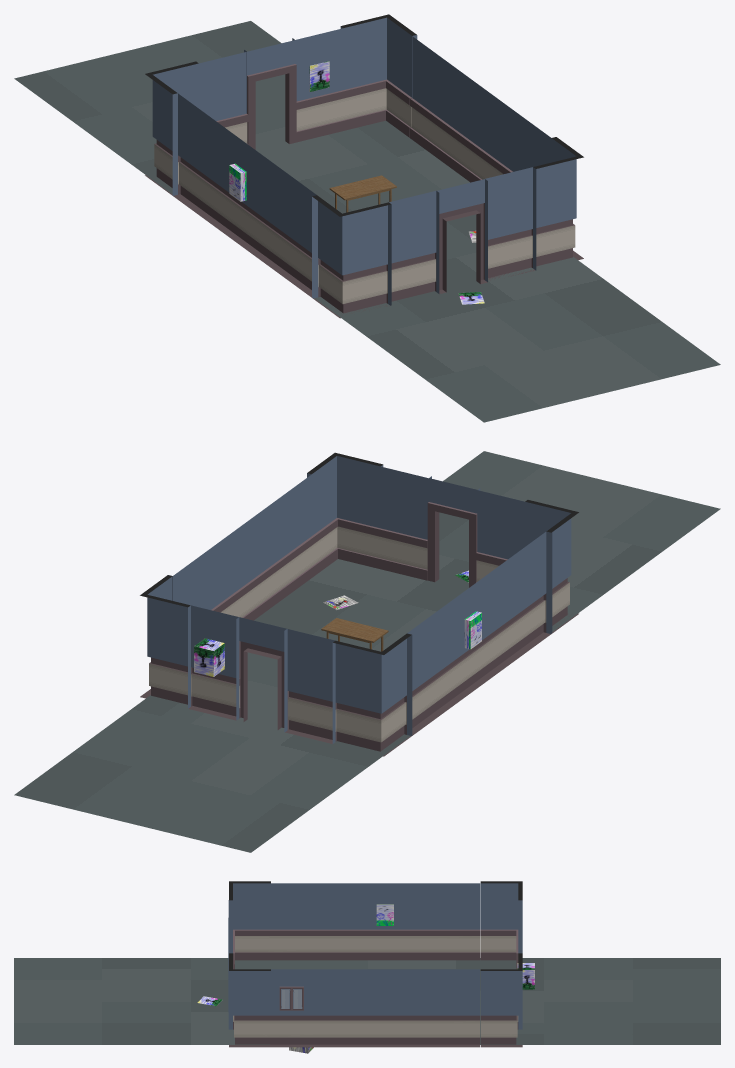
The model's file is scene_upd.gltf.
3 views of the same model, one above another, from view 1: azimuth 30°, elevation 25°; view 2: azimuth 150°, elevation 25°; view 3: azimuth 270°, elevation 25° (orthographic). The views are drawn at different scales.
Parts seen in each view (by area): view 1: mesh_floor_2x2_mat_floor_0, mesh_doublewall_straight_mat_wall_inside_1_3, mesh_doublewall_straight_mat_wall_inside_1_2, mesh_wall_corner_mat_wall_inside_1_0, mesh_wall_corner_mat_wall_inside_1_1, mesh_doublewall_straight_mat_wall_inside_1_4, mesh_wall_corner_mat_wall_inside_1_3, mesh_doublewall_straight_mat_wall_inside_1_0, mesh_doublewall_straight_mat_wall_inside_1_1, mesh_doublewall_straight_mat_wall_inside_1_5, mesh_wall_corner_mat_wall_inside_1_2, mesh_doublewall_door_mat_wall_inside_1_0 (+2 smaller); view 2: mesh_floor_2x2_mat_floor_0, mesh_doublewall_straight_mat_wall_inside_1_3, mesh_doublewall_straight_mat_wall_inside_1_2, mesh_wall_corner_mat_wall_inside_1_2, mesh_wall_corner_mat_wall_inside_1_3, mesh_doublewall_straight_mat_wall_inside_1_5, mesh_doublewall_straight_mat_wall_inside_1_0, mesh_wall_corner_mat_wall_inside_1_0, mesh_doublewall_straight_mat_wall_inside_1_1, mesh_wall_corner_mat_wall_inside_1_1, mesh_doublewall_straight_mat_wall_inside_1_4, mesh_doublewall_door_mat_wall_inside_1_0 (+3 smaller); view 3: mesh_floor_2x2_mat_floor_0, mesh_doublewall_straight_mat_wall_inside_1_3, mesh_doublewall_straight_mat_wall_inside_1_2, mesh_wall_corner_mat_wall_inside_1_2, mesh_wall_corner_mat_wall_inside_1_0, mesh_wall_corner_mat_wall_inside_1_1, mesh_wall_corner_mat_wall_inside_1_3, Cubo (×2), mesh_doublewall_straight_mat_wall_inside_1_0, mesh_window_sash_2_mat_window_0, mesh_doublewall_straight_mat_wall_inside_1_1, mesh_window_sash_1_mat_window_0.
Part boxes in pixels (<box>): mesh_floor_2x2_mat_floor_0: <box>14,21,720,422</box>; mesh_doublewall_straight_mat_wall_inside_1_3: <box>172,93,320,298</box>; mesh_doublewall_straight_mat_wall_inside_1_2: <box>410,35,551,182</box>; mesh_wall_corner_mat_wall_inside_1_0: <box>340,14,416,137</box>; mesh_wall_corner_mat_wall_inside_1_1: <box>312,195,391,318</box>; mesh_doublewall_straight_mat_wall_inside_1_4: <box>386,190,439,305</box>; mesh_wall_corner_mat_wall_inside_1_3: <box>531,137,583,270</box>; mesh_doublewall_straight_mat_wall_inside_1_0: <box>485,167,536,280</box>; mesh_doublewall_straight_mat_wall_inside_1_1: <box>292,28,344,142</box>; mesh_doublewall_straight_mat_wall_inside_1_5: <box>198,50,248,144</box>; mesh_wall_corner_mat_wall_inside_1_2: <box>145,61,198,195</box>; mesh_doublewall_door_mat_wall_inside_1_0: <box>244,38,296,149</box>; mesh_floor_2x2_mat_floor_0: <box>14,451,720,852</box>; mesh_doublewall_straight_mat_wall_inside_1_3: <box>407,532,552,735</box>; mesh_doublewall_straight_mat_wall_inside_1_2: <box>168,474,314,620</box>; mesh_wall_corner_mat_wall_inside_1_2: <box>332,633,411,756</box>; mesh_wall_corner_mat_wall_inside_1_3: <box>307,452,383,575</box>; mesh_doublewall_straight_mat_wall_inside_1_5: <box>284,629,336,743</box>; mesh_doublewall_straight_mat_wall_inside_1_0: <box>379,466,428,580</box>; mesh_wall_corner_mat_wall_inside_1_0: <box>140,575,192,708</box>; mesh_doublewall_straight_mat_wall_inside_1_1: <box>188,605,240,720</box>; mesh_wall_corner_mat_wall_inside_1_1: <box>525,500,578,633</box>; mesh_doublewall_straight_mat_wall_inside_1_4: <box>476,488,524,582</box>; mesh_doublewall_door_mat_wall_inside_1_0: <box>236,617,288,731</box>; mesh_floor_2x2_mat_floor_0: <box>14,958,720,1044</box>; mesh_doublewall_straight_mat_wall_inside_1_3: <box>269,883,480,960</box>; mesh_doublewall_straight_mat_wall_inside_1_2: <box>270,969,479,1047</box>; mesh_wall_corner_mat_wall_inside_1_2: <box>480,881,522,960</box>; mesh_wall_corner_mat_wall_inside_1_0: <box>480,953,522,1047</box>; mesh_wall_corner_mat_wall_inside_1_1: <box>229,881,270,960</box>; mesh_wall_corner_mat_wall_inside_1_3: <box>229,953,270,1047</box>; Cubo (×2): <box>376,904,534,989</box>; mesh_doublewall_straight_mat_wall_inside_1_0: <box>228,935,233,1029</box>; mesh_window_sash_2_mat_window_0: <box>279,986,291,1010</box>; mesh_doublewall_straight_mat_wall_inside_1_1: <box>517,935,522,1029</box>; mesh_window_sash_1_mat_window_0: <box>292,986,303,1010</box>.
Size of the model in its own units: 9.02 by 4.56 by 29.93.
Materials: 20 (20 with a texture image).
